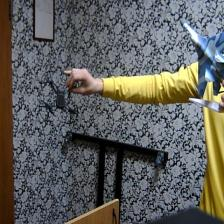drone: (36, 65, 82, 128)
